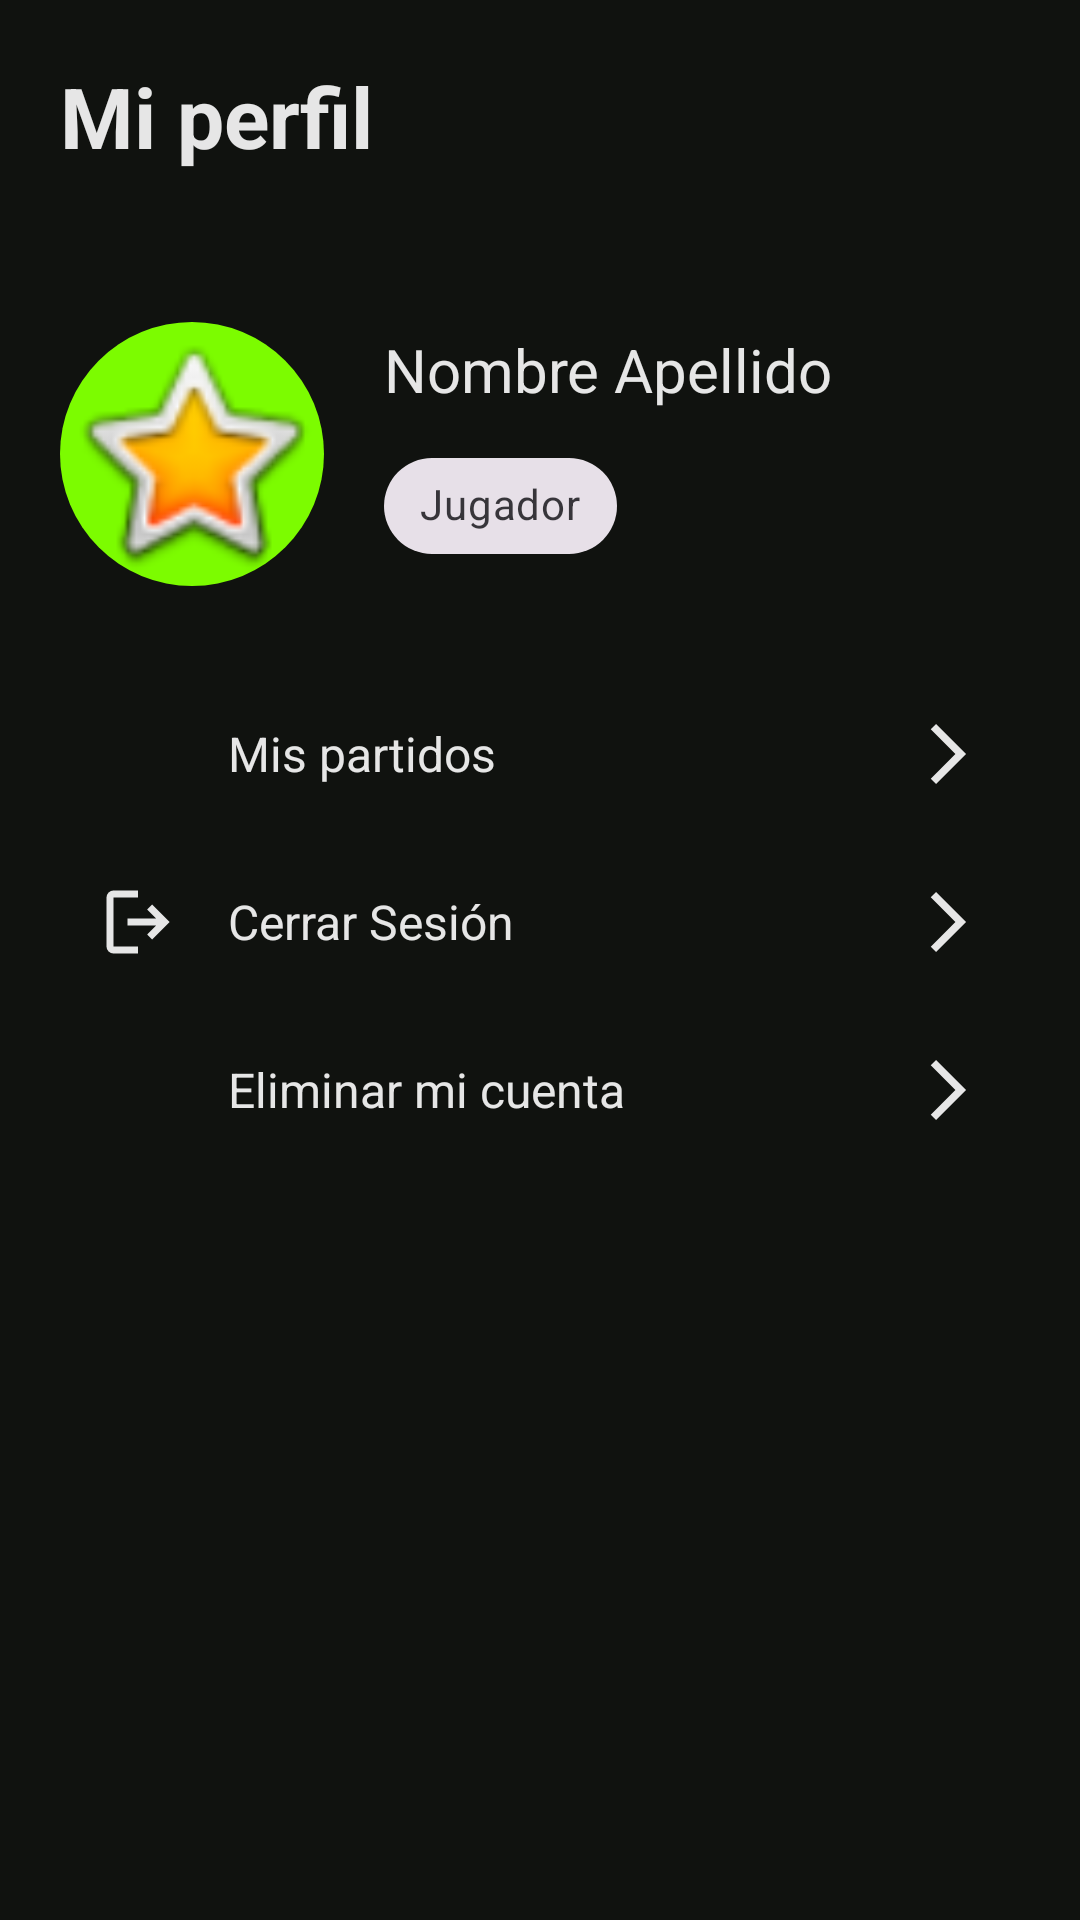

Screen size 1080 × 1920. Icon name, then its box in pixels as (x1, y1, x2, y2):
arrow right: (931, 724, 966, 784), (931, 892, 966, 952), (931, 1060, 966, 1120)
